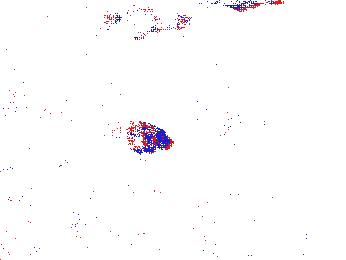X-ray fish: (210, 99, 281, 147), (119, 119, 173, 153)
redtail glassfish: (96, 9, 194, 42)
